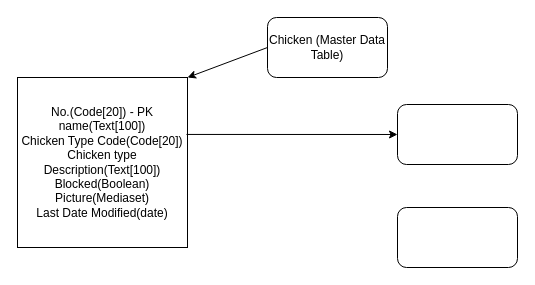
This 535x285 diagram has some shape labels left out. Each missing label, with the box of its shape:
Chicken Type Code[20] - PK Description(Text[100]): (396, 104, 518, 164)
Egg Type Code[20] - PK Description(Text[100]): (396, 206, 518, 268)
